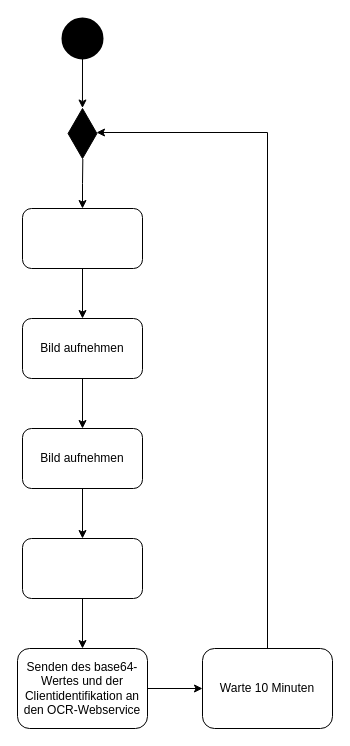
The diagram is 350 pixels wide and 746 high, and some of its shapes have lost their labels. The shapes that lost their labels are listed below. From the top down, each one's centre as x and y in pixels, then its label:
the point at 82,238: Verindung zur Kamera herstellen
the point at 82,568: Umwandlung des Bildes in base64
